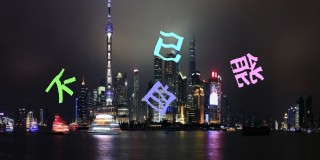不: (43, 66, 78, 103)
已: (152, 29, 185, 64)
能: (228, 50, 264, 87)
自: (143, 81, 176, 117)
